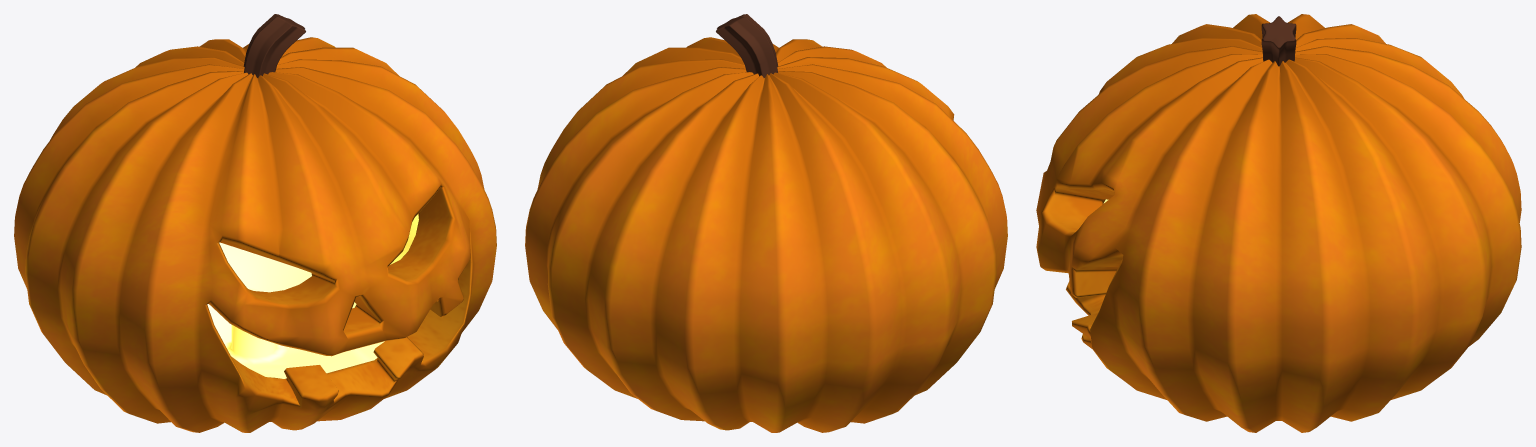
Rendered from Pumpkin.glb.
3 renders of one model, left to right at view 1: azimuth 30°, elevation 25°; view 2: azimuth 150°, elevation 25°; view 3: azimuth 270°, elevation 25°, orthographic.
Visible parts, largest first — view 1: Pumpkin-rigid; view 2: Pumpkin-rigid; view 3: Pumpkin-rigid.
Boxes of the visible parts, bbox=[...] form: Pumpkin-rigid: bbox=[14, 14, 496, 432]; Pumpkin-rigid: bbox=[525, 14, 1007, 432]; Pumpkin-rigid: bbox=[1036, 14, 1521, 432].
Bounding box in the file's own units: 35.66 × 30.96 × 35.66.
2 materials, 1 textured.
